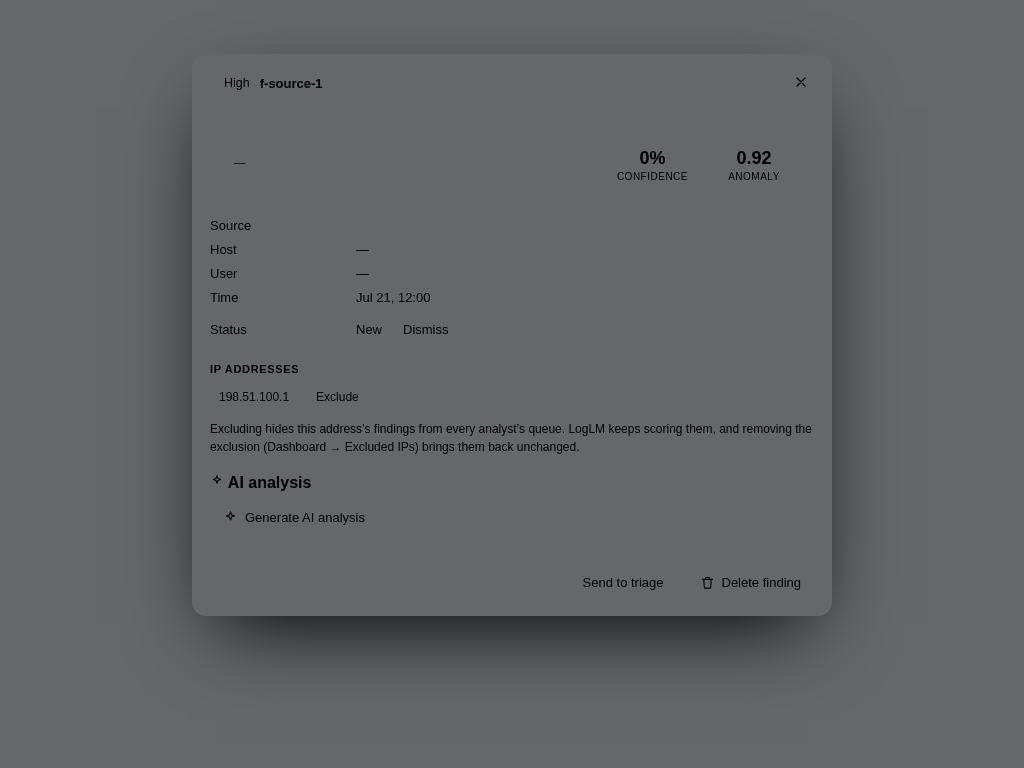
Scenario: FindingPopup IP exclusions › shows the server refusal instead of marking the address
Click the button "Exclude" at [337, 397], box [306, 384, 369, 410]
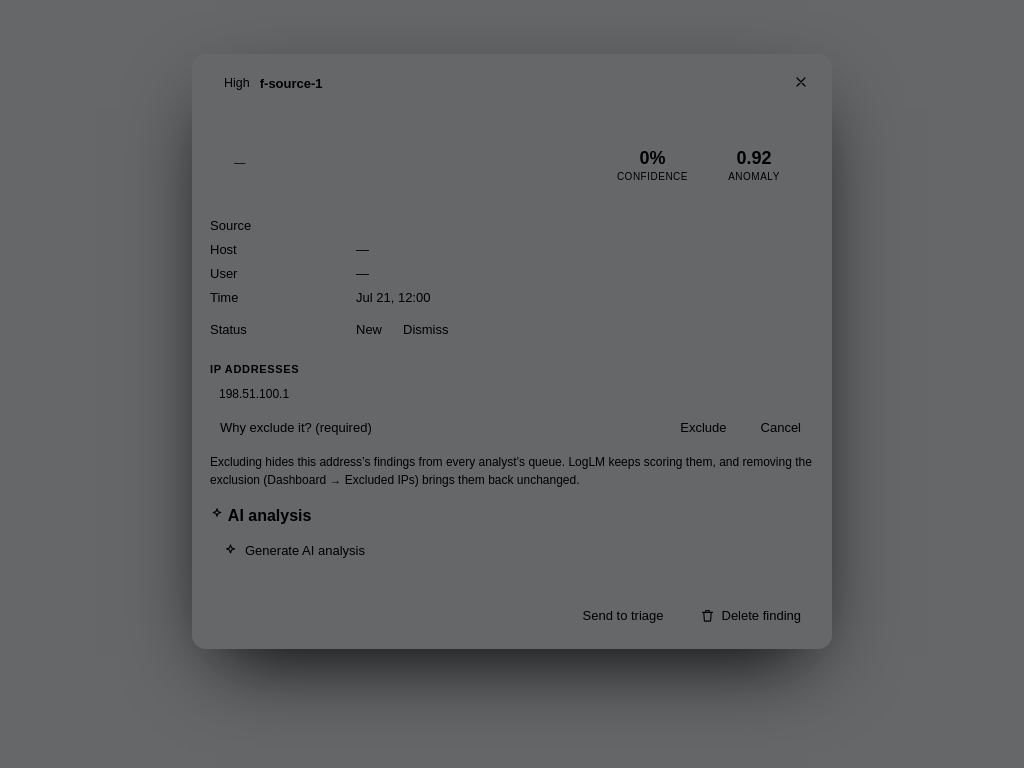
Type "dup" into the field named "Reason for excluding 198.51.100.1" at [435, 427], box [210, 412, 659, 443]
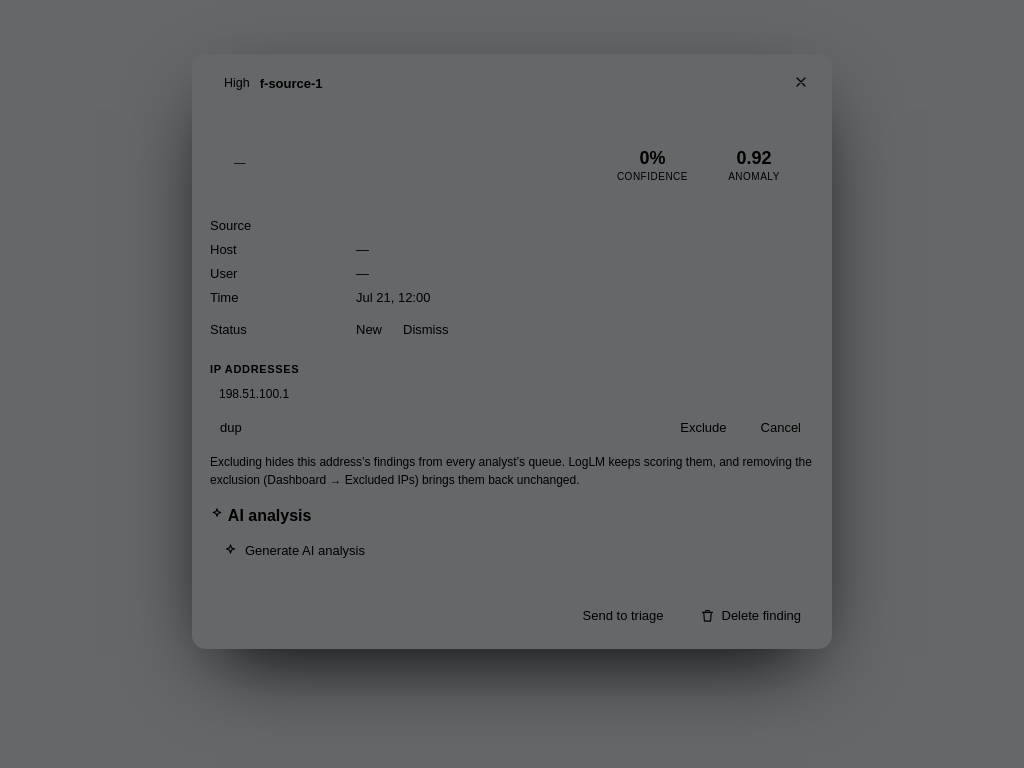
Click the button "Exclude" at [703, 427], box [667, 412, 740, 443]
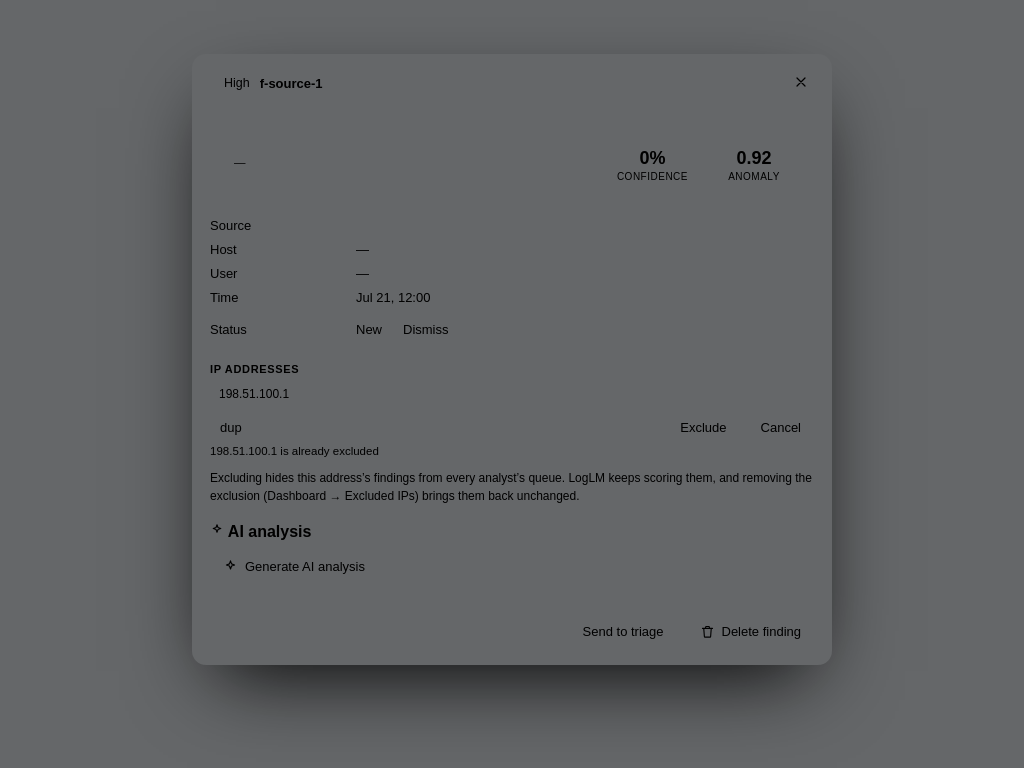
Now the message reads "198.51.100.1 is already excluded", box [210, 445, 379, 457]
